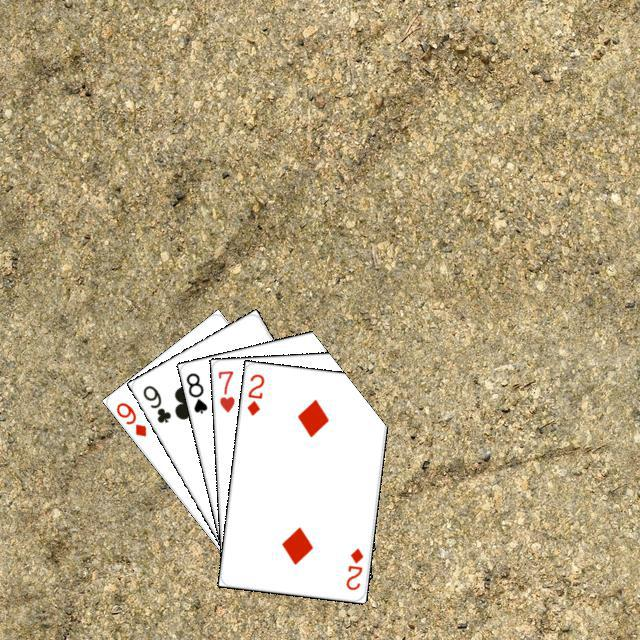2d: (341, 543, 365, 592), (242, 369, 266, 417)
7h: (213, 366, 236, 414)
8s: (181, 368, 209, 415)
9c: (138, 380, 173, 425)
9d: (111, 397, 148, 439)
